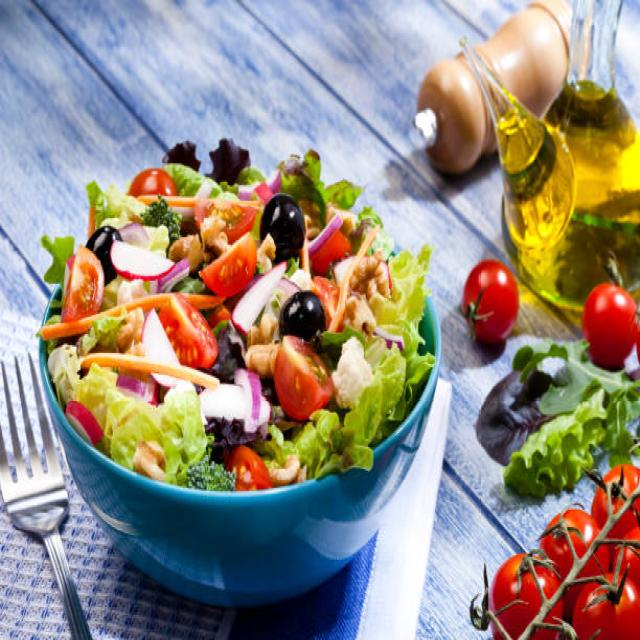Tomato: (282, 327, 342, 422), (161, 292, 227, 370), (213, 235, 259, 282)
